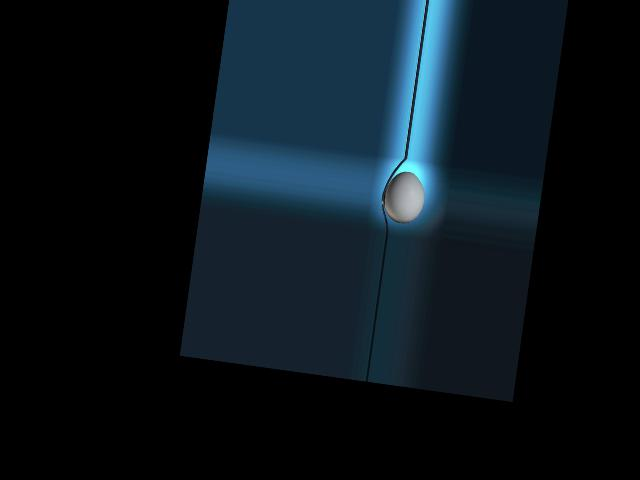egg: (381, 169, 427, 226)
